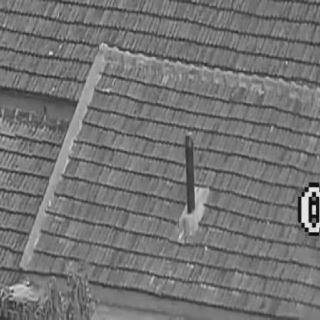other: (54, 88, 173, 260)
